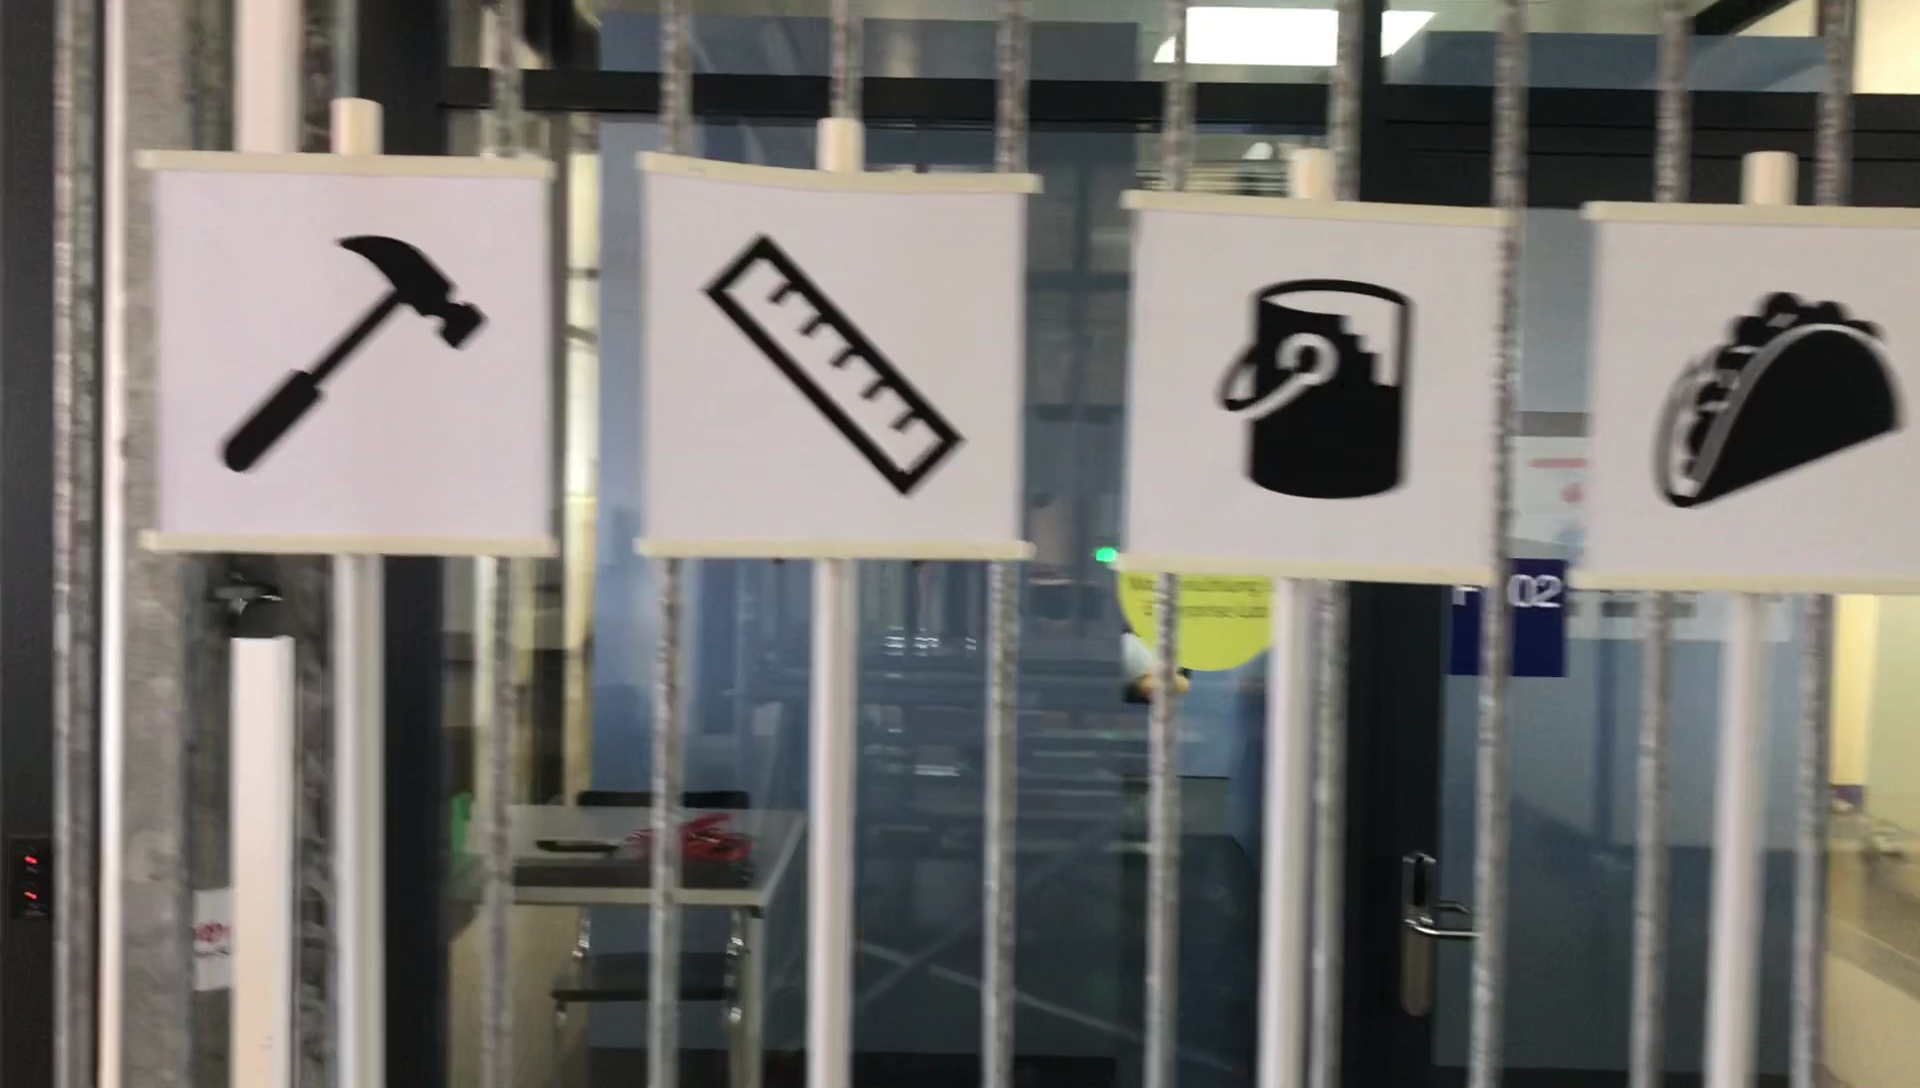bucket: (1213, 261, 1419, 520)
hammer: (207, 224, 491, 484)
ruler: (700, 226, 967, 506)
taco: (1644, 284, 1905, 518)
